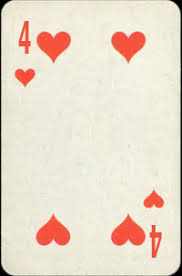four of hearts: (3, 1, 180, 276)
